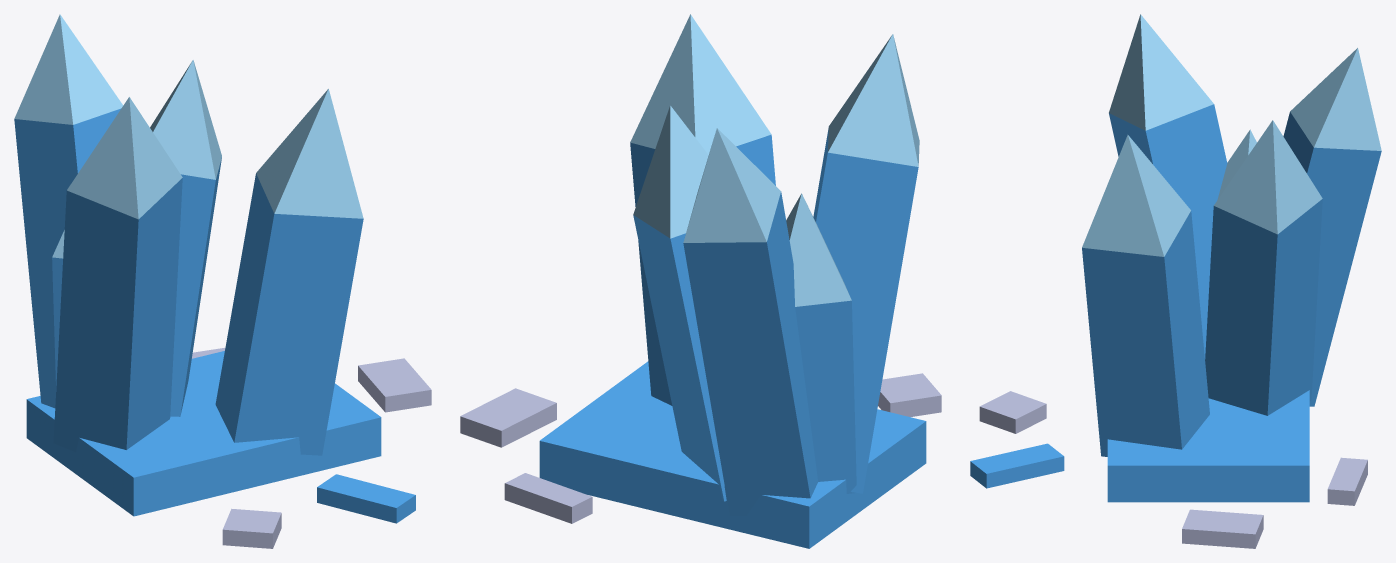
File: IceCrystal.fbx
The picture shows the model from 3 angles, left to right: view 1: azimuth 30°, elevation 25°; view 2: azimuth 150°, elevation 25°; view 3: azimuth 270°, elevation 25°; orthographic projection. The views are drawn at different scales.
Visible parts, largest first — view 1: Ice.002, IceLight, SnowShade.003; view 2: Ice.002, IceLight, SnowShade.003; view 3: Ice.002, IceLight, SnowShade.003.
Boxes of the visible parts, x1=… form: Ice.002: x1=14, y1=108, x2=415, y2=523; IceLight: x1=14, y1=14, x2=363, y2=258; SnowShade.003: x1=192, y1=347, x2=431, y2=548; Ice.002: x1=539, y1=126, x2=926, y2=548; IceLight: x1=630, y1=14, x2=919, y2=306; SnowShade.003: x1=460, y1=373, x2=941, y2=523; Ice.002: x1=970, y1=104, x2=1381, y2=502; IceLight: x1=1082, y1=14, x2=1381, y2=256; SnowShade.003: x1=979, y1=391, x2=1367, y2=548.
Size of the model in its own units: 6.12 by 6.23 by 6.11.
